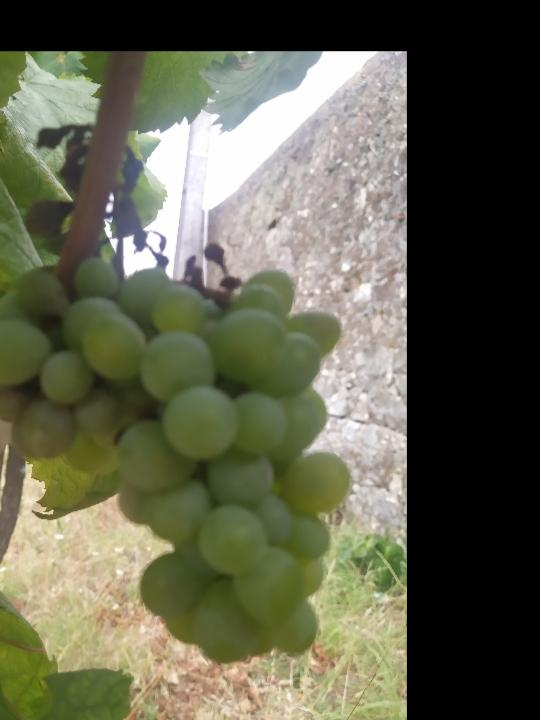grape: (0, 122, 355, 666)
